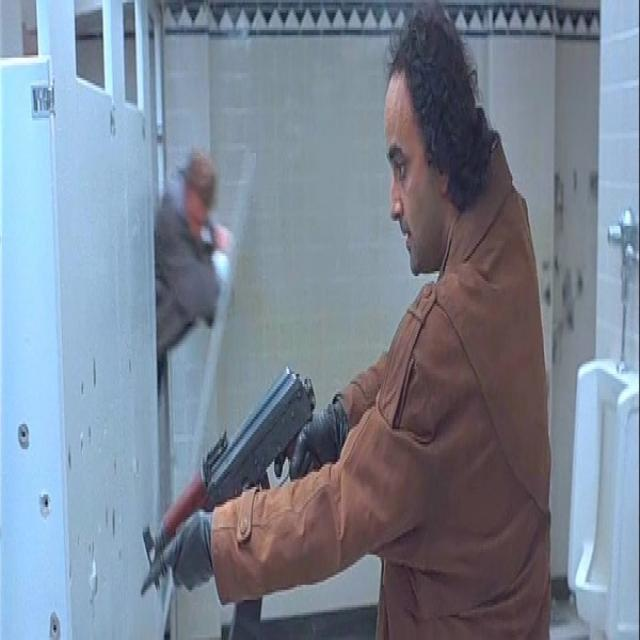rifle: (136, 371, 320, 606)
